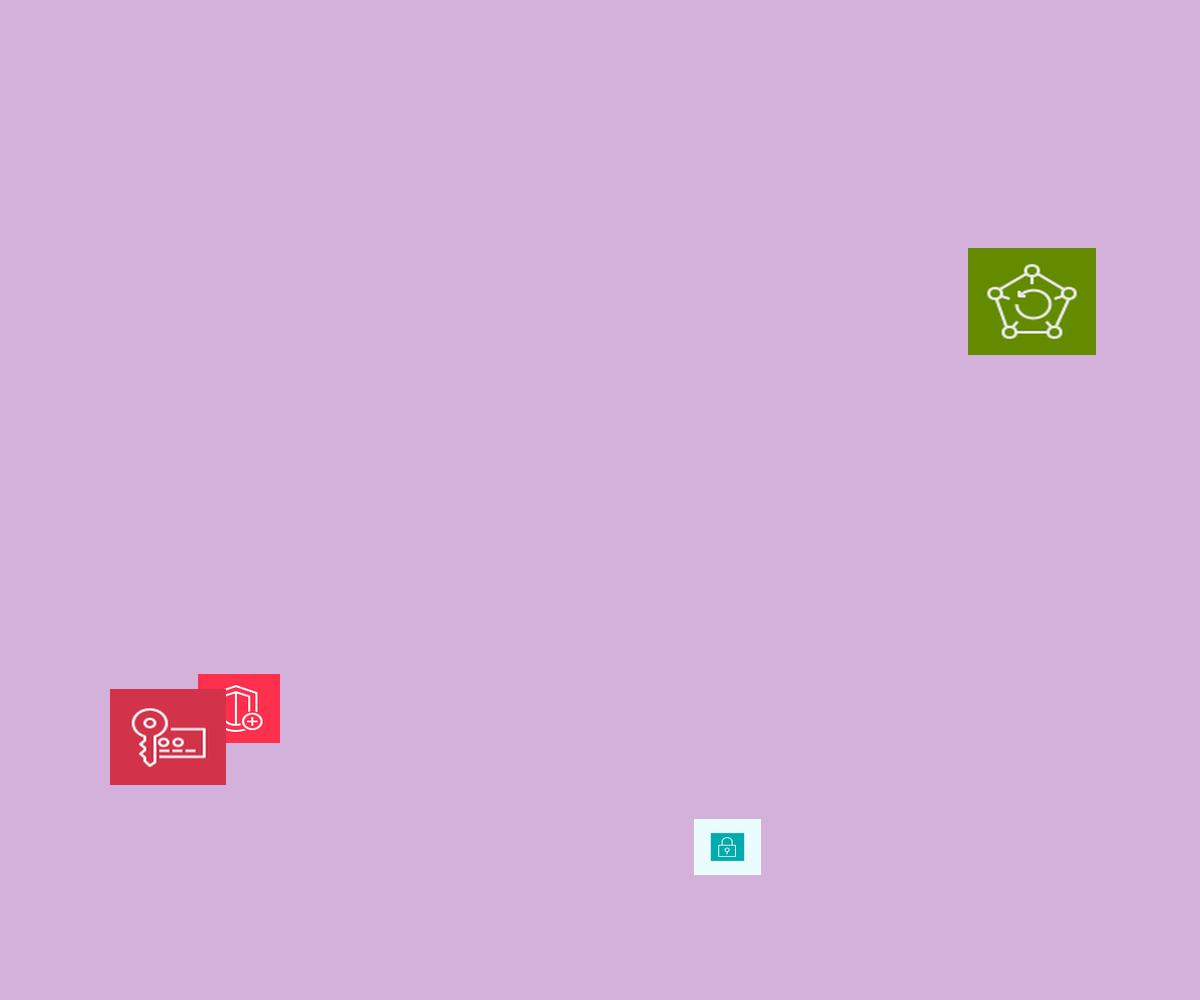AWS-Backup: (968, 248, 1096, 355)
AWS-Key-Management-Service: (110, 689, 226, 785)
AWS-Private-subnet: (694, 819, 761, 875)
AWS-Shield: (198, 674, 280, 743)
